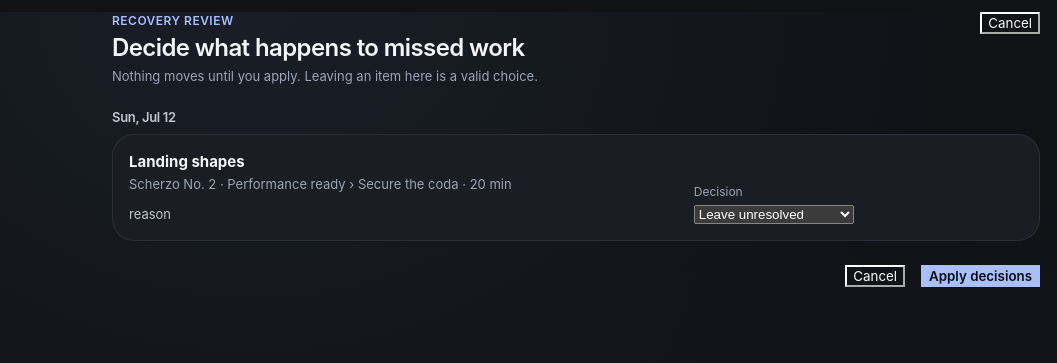
Test: RecoveryReview › clears a previous error banner when Apply is clicked again
Click the button "Apply decisions": (980, 276) [921, 265, 1040, 287]
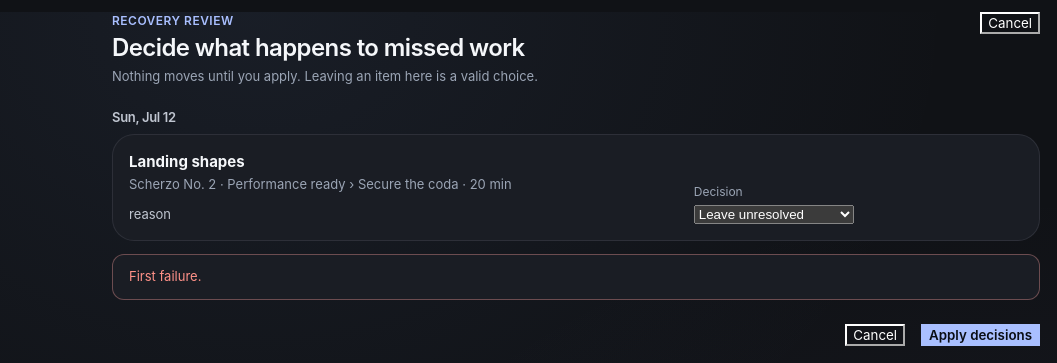
Check: the message "First failure." is shown, box [112, 254, 1040, 300]
Click the button "Apply decisions": (980, 335) [921, 324, 1040, 346]
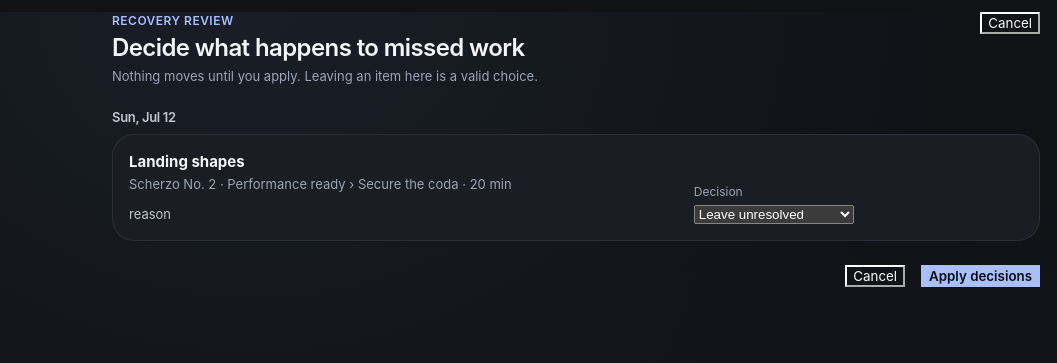
Check: the message "First failure." is gone
